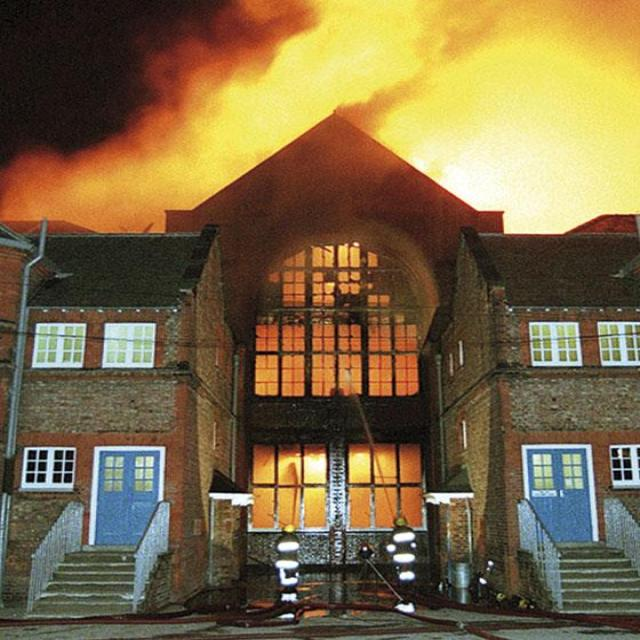Fire: (201, 162, 510, 551)
